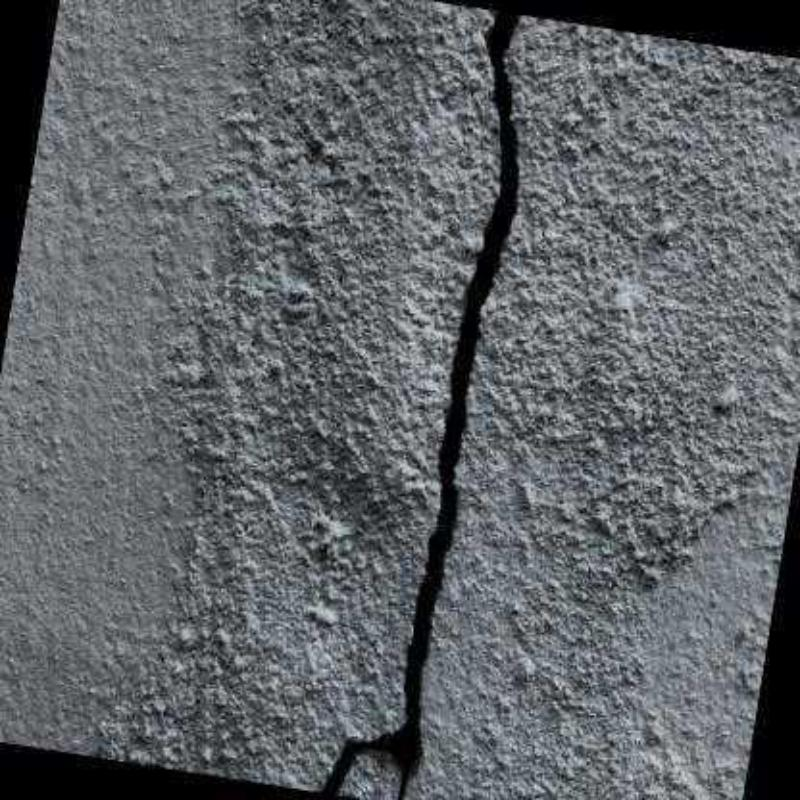pothole: (308, 9, 524, 800)
